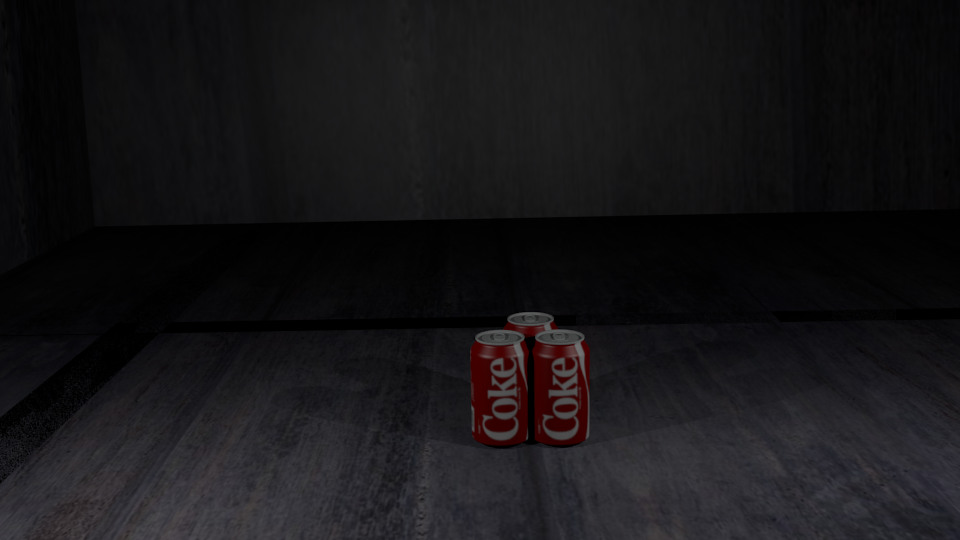cola_can: (470, 330, 529, 442), (530, 330, 589, 441), (503, 312, 557, 419)
